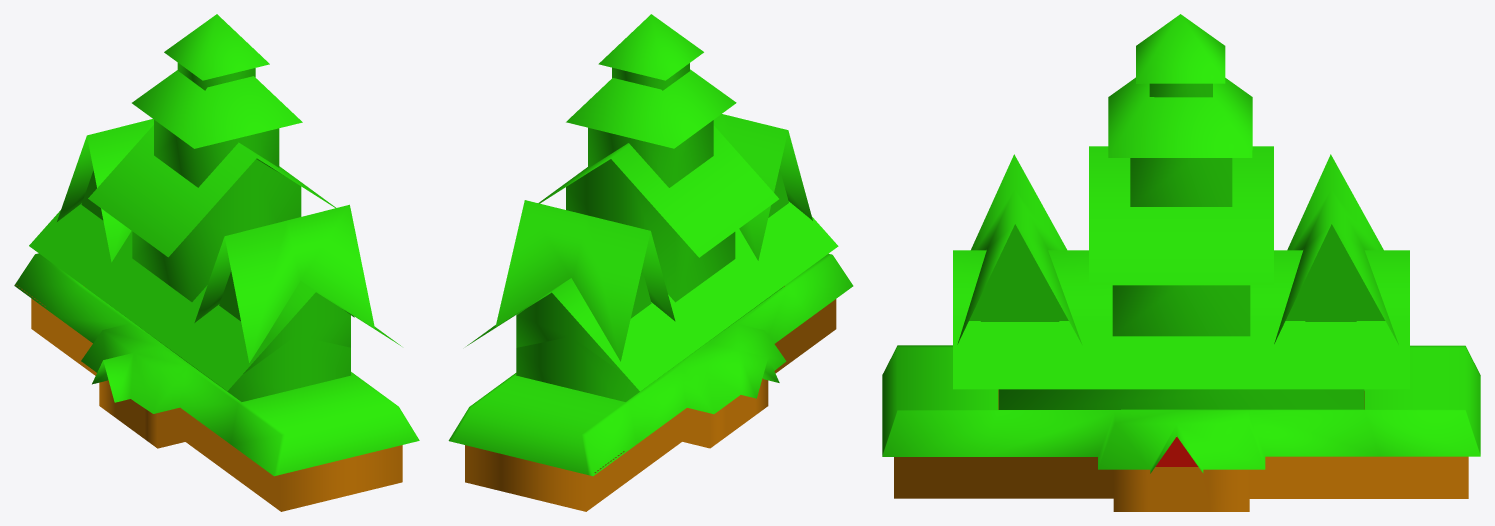
The model's file is KasteelUV1TestLow.fbx.
3 renders of one model, left to right at view 1: azimuth 30°, elevation 25°; view 2: azimuth 150°, elevation 25°; view 3: azimuth 270°, elevation 25°, orthographic. The views are drawn at different scales.
Parts seen in each view (by area): view 1: Plane.052, Plane.061, Plane.054, Plane.050, Plane.056, Plane.055, Plane.058, Plane.053, Plane.060, Plane.057, Plane.062, Plane.059; view 2: Plane.052, Plane.061, Plane.054, Plane.050, Plane.056, Plane.058, Plane.053, Plane.055, Plane.060, Plane.057, Plane.062, Plane.059; view 3: Plane.052, Plane.054, Plane.050, Plane.056, Plane.061, Plane.062, Plane.058, Plane.053, Plane.055, Plane.057, Plane.060, Plane.059.
Boxes of the visible parts, left/top/right/bottom form: Plane.052: left=14, top=253, right=419, bottom=476; Plane.061: left=57, top=119, right=374, bottom=362; Plane.054: left=29, top=203, right=401, bottom=390; Plane.050: left=31, top=286, right=402, bottom=511; Plane.056: left=88, top=125, right=335, bottom=257; Plane.055: left=132, top=158, right=301, bottom=301; Plane.058: left=132, top=70, right=302, bottom=148; Plane.053: left=89, top=290, right=350, bottom=401; Plane.060: left=164, top=14, right=269, bottom=80; Plane.057: left=154, top=120, right=279, bottom=187; Plane.062: left=81, top=170, right=354, bottom=321; Plane.059: left=177, top=63, right=255, bottom=90; Plane.052: left=448, top=253, right=853, bottom=476; Plane.061: left=495, top=114, right=812, bottom=361; Plane.054: left=466, top=201, right=838, bottom=391; Plane.050: left=465, top=286, right=836, bottom=511; Plane.056: left=538, top=125, right=778, bottom=257; Plane.058: left=566, top=69, right=736, bottom=148; Plane.053: left=516, top=287, right=782, bottom=401; Plane.055: left=566, top=159, right=735, bottom=302; Plane.060: left=598, top=14, right=703, bottom=80; Plane.057: left=588, top=120, right=713, bottom=187; Plane.062: left=517, top=169, right=788, bottom=318; Plane.059: left=612, top=63, right=689, bottom=90; Plane.052: left=882, top=345, right=1480, bottom=473; Plane.054: left=953, top=250, right=1409, bottom=389; Plane.050: left=894, top=389, right=1468, bottom=511; Plane.056: left=1089, top=146, right=1273, bottom=285; Plane.061: left=957, top=154, right=1398, bottom=344; Plane.062: left=969, top=224, right=1385, bottom=321; Plane.058: left=1108, top=77, right=1252, bottom=157; Plane.053: left=998, top=389, right=1364, bottom=409; Plane.055: left=1112, top=285, right=1250, bottom=336; Plane.057: left=1130, top=158, right=1232, bottom=206; Plane.060: left=1136, top=14, right=1225, bottom=83; Plane.059: left=1149, top=83, right=1212, bottom=97.
Bounding box in the file's own units: 2195 × 3753 × 4516.
